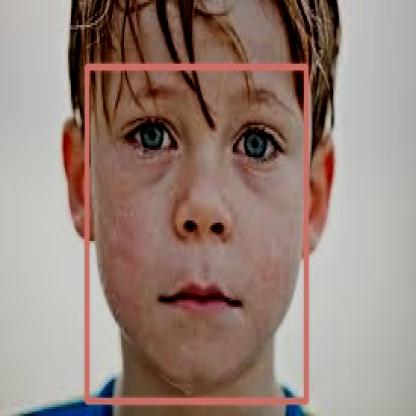without_mask: (86, 66, 306, 400)
